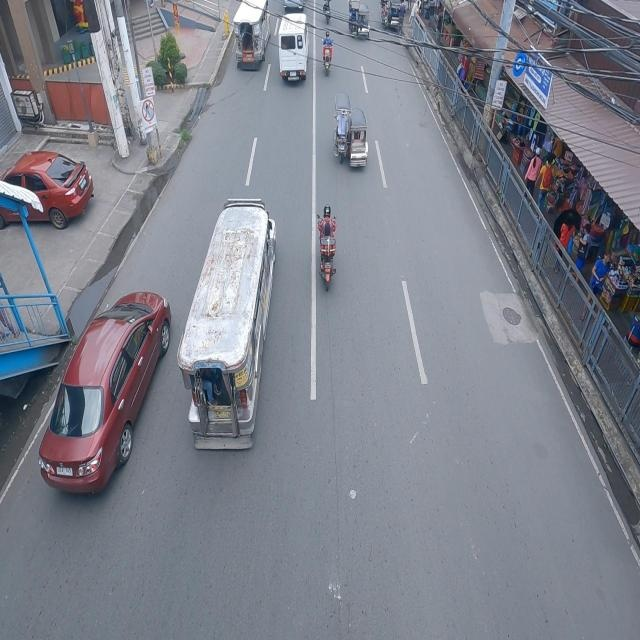Motorcycle: (317, 208, 339, 296), (320, 27, 335, 75)
Van: (278, 13, 308, 83)
